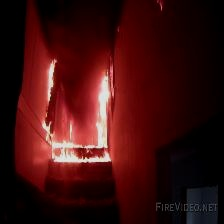fire: (45, 54, 120, 162)
